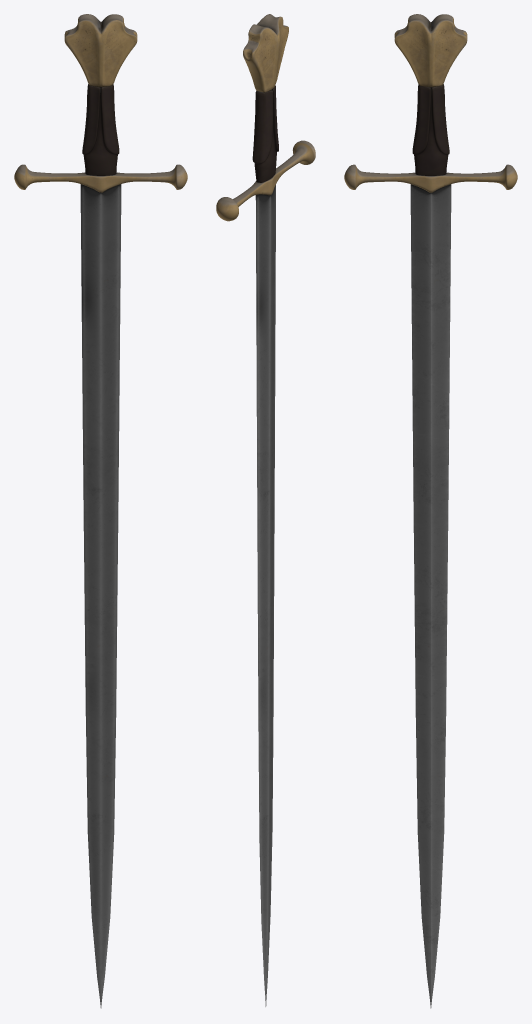
File: european_sword.fbx
The picture shows the model from 3 angles, left to right: view 1: azimuth 90°, elevation 25°; view 2: azimuth 150°, elevation 25°; view 3: azimuth 270°, elevation 25°; orthographic projection.
Visible parts, largest first — view 1: sword_mesh.003; view 2: sword_mesh.003; view 3: sword_mesh.003.
Boxes of the visible parts, x1,y1,x2,y2 form: sword_mesh.003: (14, 14, 187, 1008); sword_mesh.003: (216, 14, 315, 1006); sword_mesh.003: (344, 14, 517, 1008).
Size of the model in its own units: 13.59 by 490 by 77.64.
